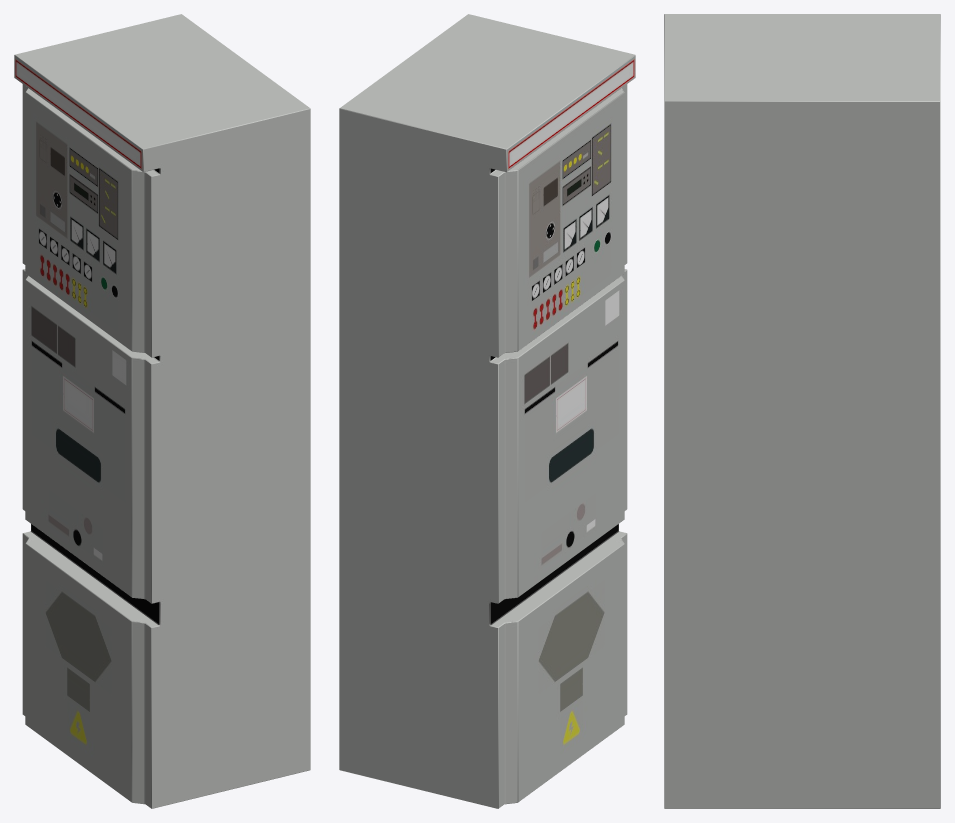
Rendered from home9.glb.
3 views of the same model, side by side, from view 1: azimuth 30°, elevation 25°; view 2: azimuth 150°, elevation 25°; view 3: azimuth 270°, elevation 25° (orthographic). The views are drawn at different scales.
Visible parts, largest first — view 1: 开关柜; view 2: 开关柜; view 3: 开关柜.
Part boxes in pixels (left/top/right/bottom): 开关柜: left=14, top=14, right=310, bottom=808; 开关柜: left=339, top=14, right=635, bottom=808; 开关柜: left=664, top=14, right=940, bottom=808.
Size of the model in its own units: 0.6 by 2.26 by 0.8.
1 material, 1 textured.
